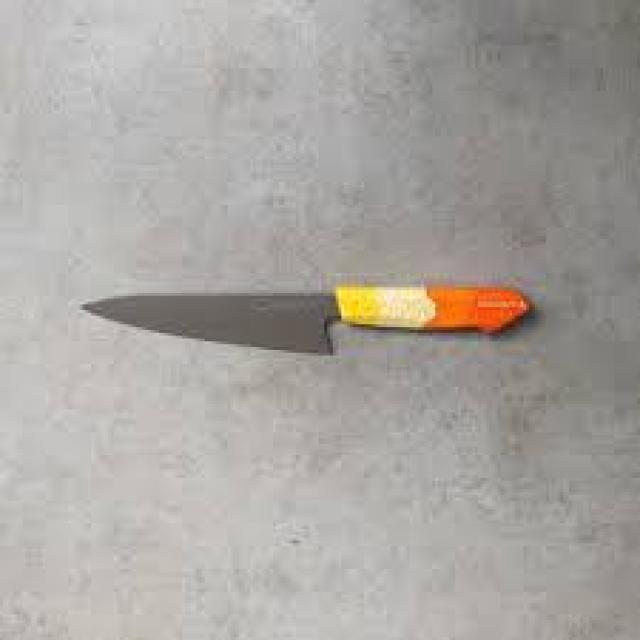knife: (82, 286, 532, 354)
